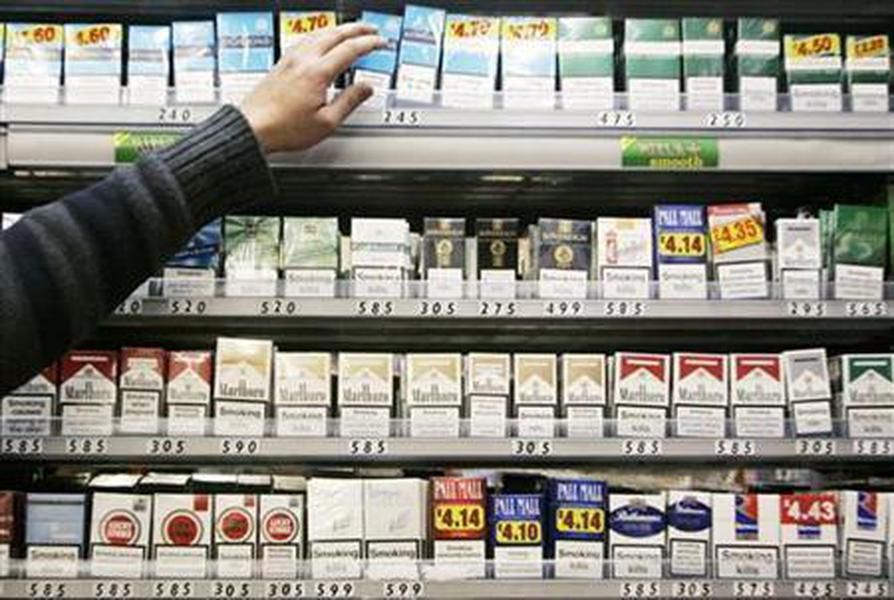chesterfield_red: (596, 217, 651, 297)
lucky_strike_red: (154, 494, 211, 579), (91, 496, 146, 579), (259, 496, 303, 579), (216, 494, 258, 577)
marlboro_mentol: (844, 356, 893, 439)
marlboro_red: (614, 354, 668, 436), (674, 354, 726, 437), (733, 356, 786, 436), (63, 352, 113, 432), (166, 351, 211, 437), (1, 365, 53, 437), (119, 349, 163, 432)
